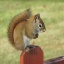squirrel: (7, 8, 47, 52)
